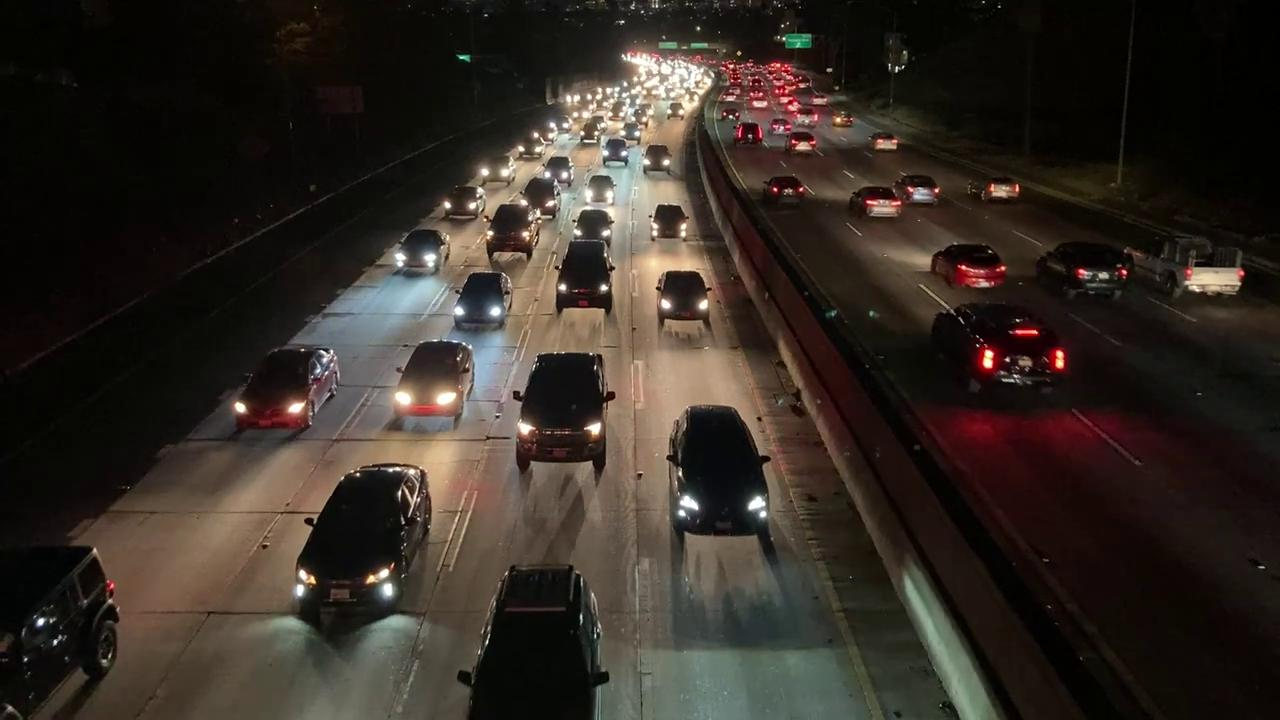car: (451, 555, 632, 720), (278, 463, 451, 623), (1, 537, 135, 720), (650, 404, 782, 538), (934, 288, 1074, 399), (226, 345, 336, 436), (1127, 220, 1252, 297), (513, 350, 609, 448), (396, 341, 480, 430), (1034, 242, 1133, 300), (553, 241, 622, 317), (927, 245, 1010, 289), (486, 201, 544, 257), (452, 273, 508, 330), (656, 273, 713, 323), (395, 231, 446, 277), (646, 199, 691, 246), (439, 181, 487, 224), (848, 185, 905, 219), (520, 177, 564, 216), (764, 175, 813, 209), (572, 207, 617, 241), (896, 174, 939, 205), (481, 154, 517, 186), (581, 173, 617, 202), (542, 154, 578, 183), (981, 178, 1024, 202), (641, 143, 673, 174), (734, 120, 766, 148), (787, 131, 821, 156), (600, 138, 628, 165), (519, 135, 550, 157), (618, 122, 645, 145), (869, 134, 900, 153), (767, 117, 795, 138), (796, 108, 819, 130), (663, 101, 689, 119), (578, 125, 602, 142), (719, 106, 741, 122), (833, 110, 853, 126)
